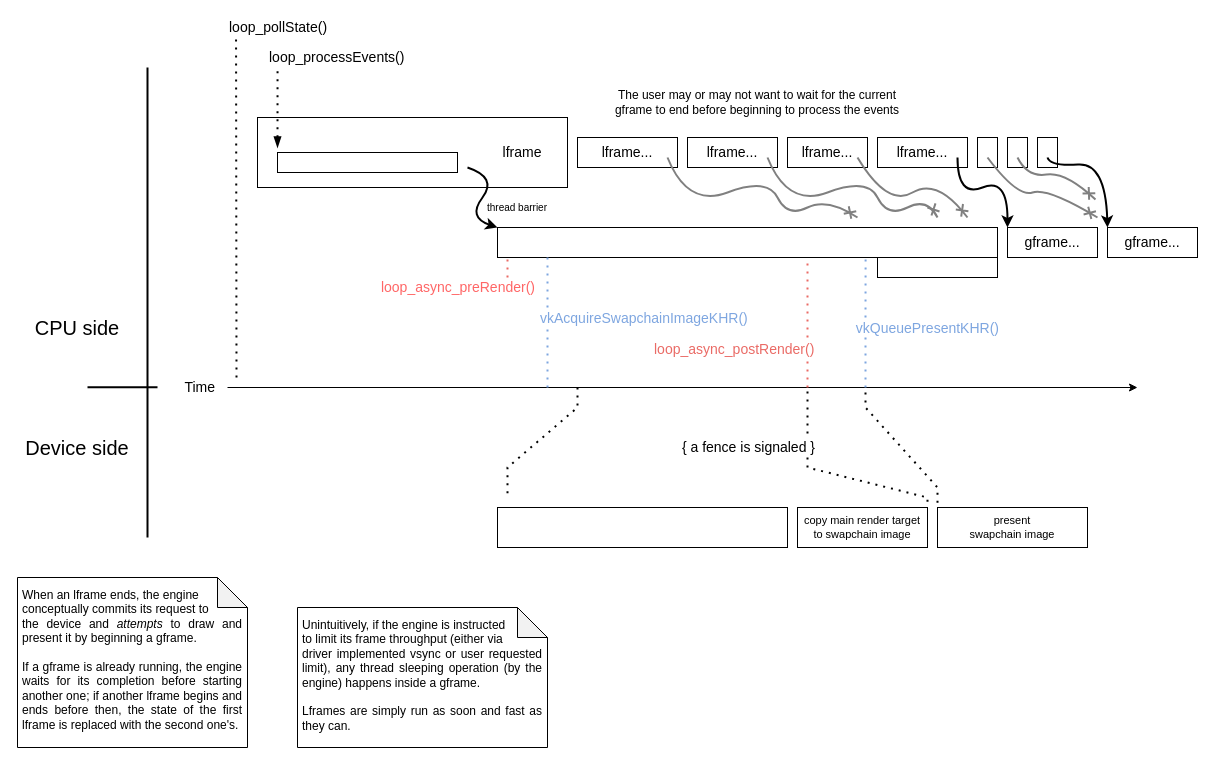
This 1215x765 diagram has some shape labels left out. Here are the shapes that lost their labels. From the top down, the centre of each, then its label:
(x=367, y=162): user-defined event processing
(x=747, y=242): gframe
(x=937, y=267): optional "thread nap"
(x=642, y=527): render pass onto main render target
